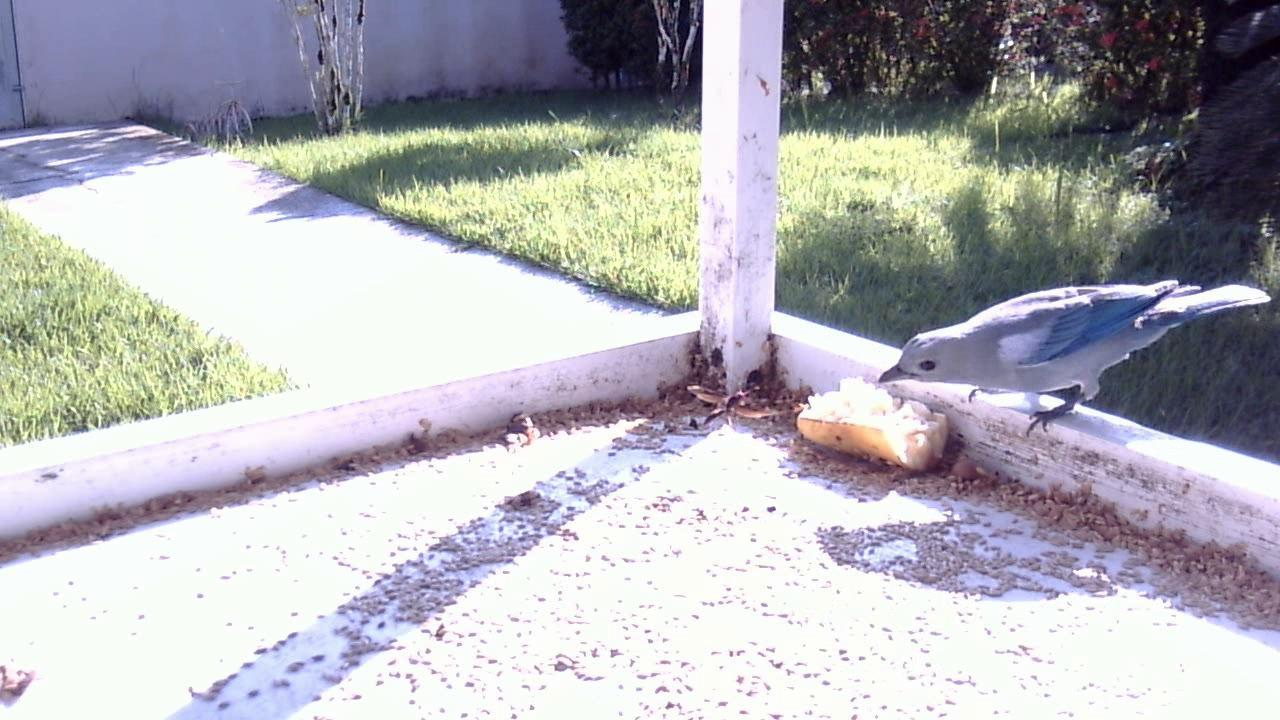sanhaco_da_amazonia: (878, 267, 1270, 450)
